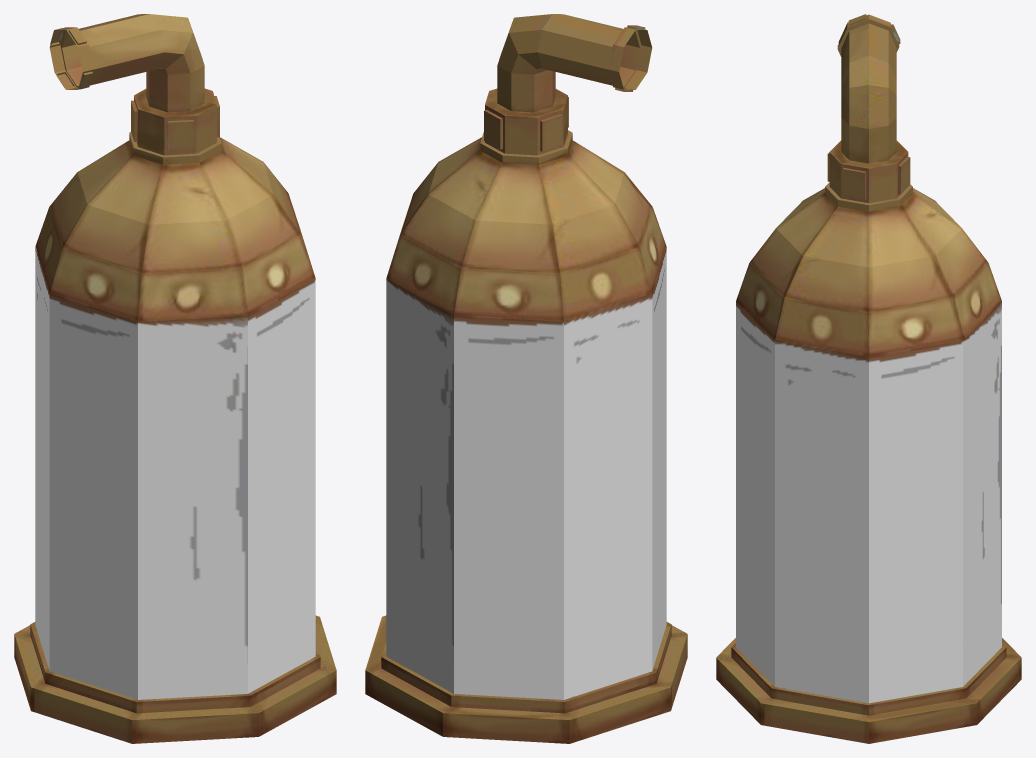
File: Tubo.fbx
3 views of the same model, side by side, from view 1: azimuth 30°, elevation 25°; view 2: azimuth 150°, elevation 25°; view 3: azimuth 270°, elevation 25° (orthographic). The views are drawn at different scales.
Visible parts, largest first — view 1: tuboPessoa; view 2: tuboPessoa; view 3: tuboPessoa.
Boxes of the visible parts, x1,y1,x2,y2 form: tuboPessoa: (14, 14, 336, 743); tuboPessoa: (365, 14, 687, 743); tuboPessoa: (716, 14, 1021, 743).
Bounding box in the file's own units: 800 × 1782 × 800.
